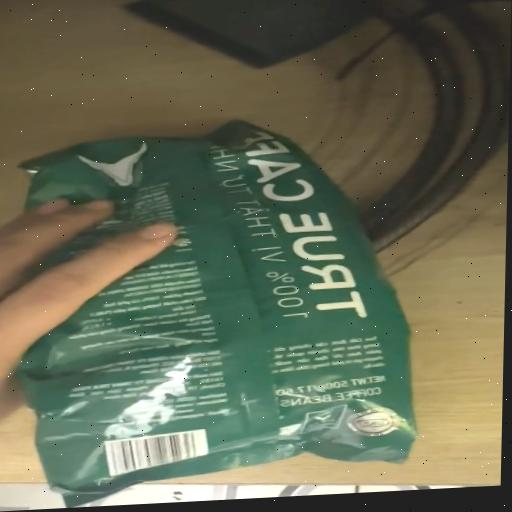cafe_xay: (18, 121, 417, 507)
